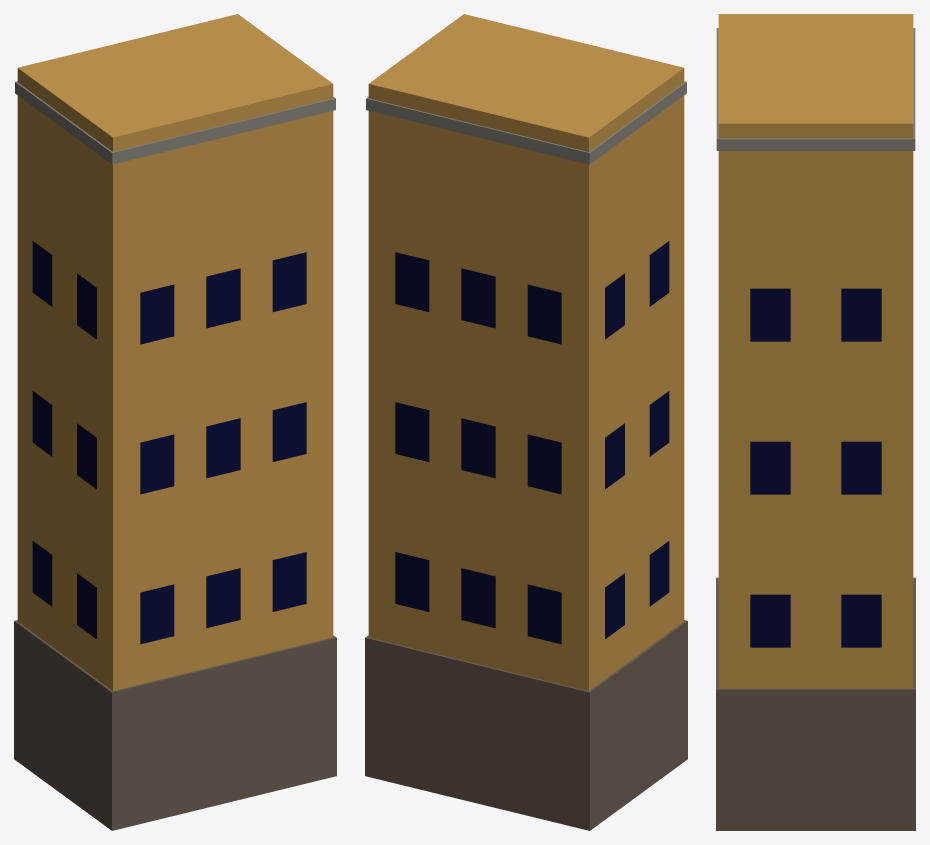
File: env_building_block_d.obj
3 renders of one model, left to right at view 1: azimuth 30°, elevation 25°; view 2: azimuth 150°, elevation 25°; view 3: azimuth 270°, elevation 25°, orthographic. The views are drawn at different scales.
Parts seen in each view (by area): view 1: BuildingBlock; view 2: BuildingBlock; view 3: BuildingBlock.
Boxes of the visible parts, bbox=[...] form: BuildingBlock: bbox=[14, 14, 336, 830]; BuildingBlock: bbox=[365, 14, 687, 830]; BuildingBlock: bbox=[716, 14, 915, 830].
Bounding box in the file's own units: 4.08 × 12 × 3.08.
